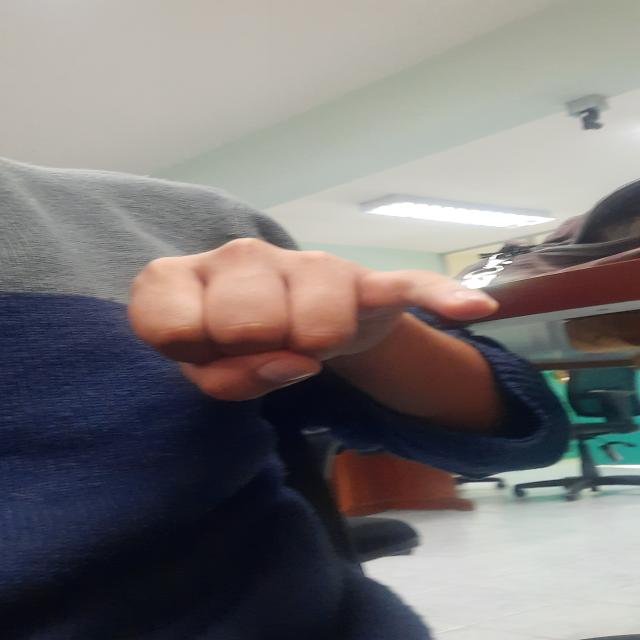J: (112, 235, 506, 414)
